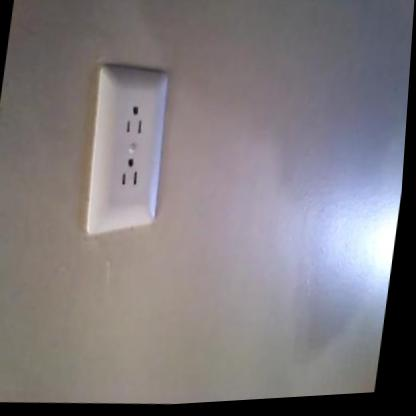OUTLET: (83, 71, 172, 238)
